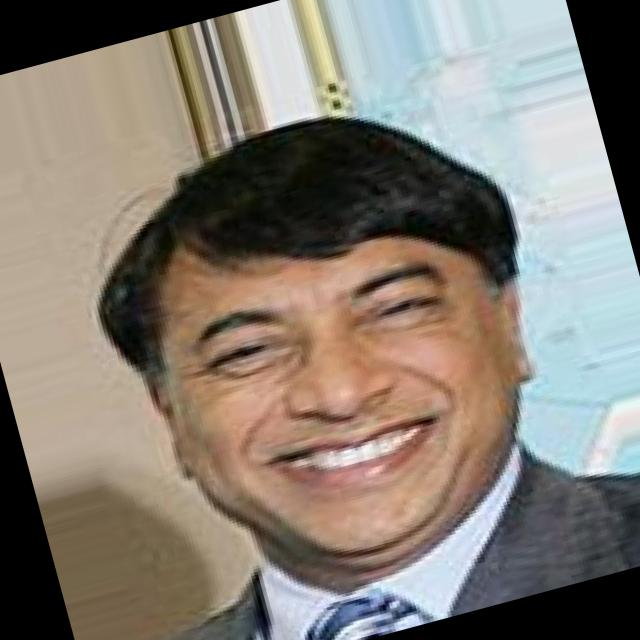bareface: (108, 64, 580, 600)
